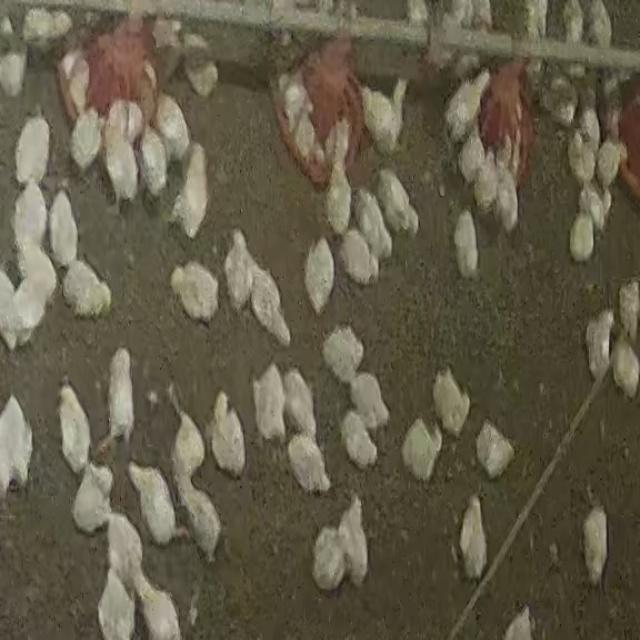chicken: (127, 463, 183, 550), (129, 559, 184, 638), (361, 78, 410, 158), (103, 512, 148, 599), (101, 346, 136, 456), (442, 70, 493, 145), (0, 393, 35, 501), (102, 106, 140, 205), (180, 475, 223, 562), (173, 142, 209, 240), (206, 389, 245, 478), (57, 382, 93, 477), (72, 462, 116, 537), (171, 395, 206, 489), (61, 258, 113, 320), (376, 168, 422, 238), (11, 178, 50, 258), (353, 187, 395, 261), (338, 491, 370, 588), (13, 108, 51, 187), (324, 137, 354, 234), (252, 364, 288, 444), (153, 92, 193, 164), (282, 369, 319, 446), (321, 323, 366, 386), (458, 494, 490, 582), (98, 566, 136, 640), (286, 435, 332, 496), (254, 274, 292, 346), (223, 229, 259, 305), (347, 371, 391, 433), (431, 369, 470, 438), (400, 419, 442, 483), (311, 524, 350, 591), (339, 409, 380, 472), (48, 188, 80, 268), (175, 264, 222, 317), (474, 421, 515, 481), (69, 107, 105, 175), (338, 228, 379, 287), (15, 272, 49, 342), (62, 46, 98, 112), (305, 236, 337, 310), (582, 504, 609, 588), (537, 73, 577, 129), (184, 34, 221, 94), (584, 313, 614, 385), (21, 6, 73, 47), (139, 126, 169, 197), (15, 237, 55, 290), (611, 335, 640, 400), (494, 162, 520, 234), (458, 125, 488, 187), (472, 151, 500, 215), (453, 208, 479, 276), (567, 128, 597, 186), (595, 136, 623, 191), (577, 182, 605, 237), (0, 47, 28, 100), (568, 212, 596, 263), (586, 0, 612, 50), (560, 0, 585, 47)
